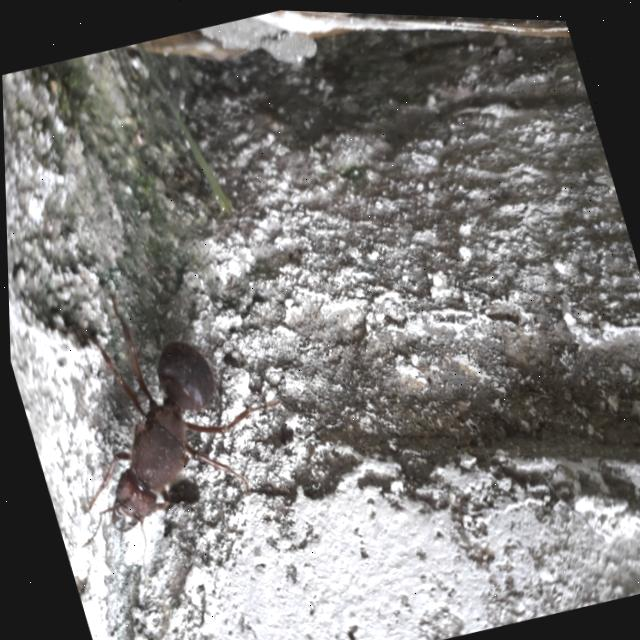Alive-Female-Dealate: (8, 255, 323, 604)
